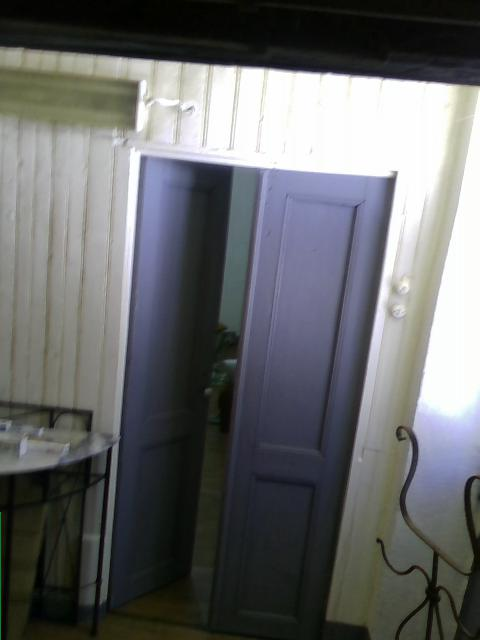semi_door: (104, 147, 398, 639)
